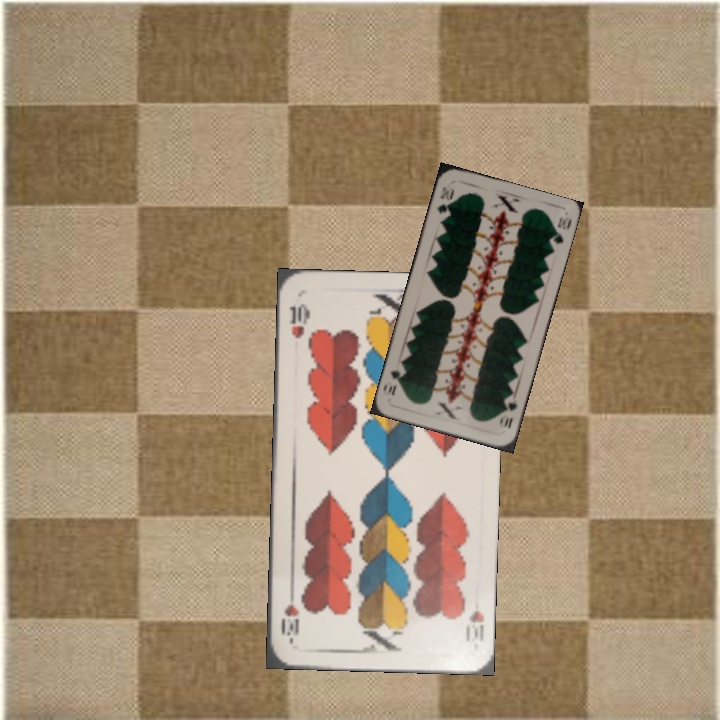G10: (432, 182, 457, 217), (496, 395, 520, 431)
H10: (285, 300, 310, 341), (461, 606, 487, 644)
